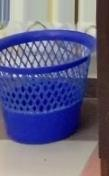Bote de Basura: (0, 31, 98, 148)
